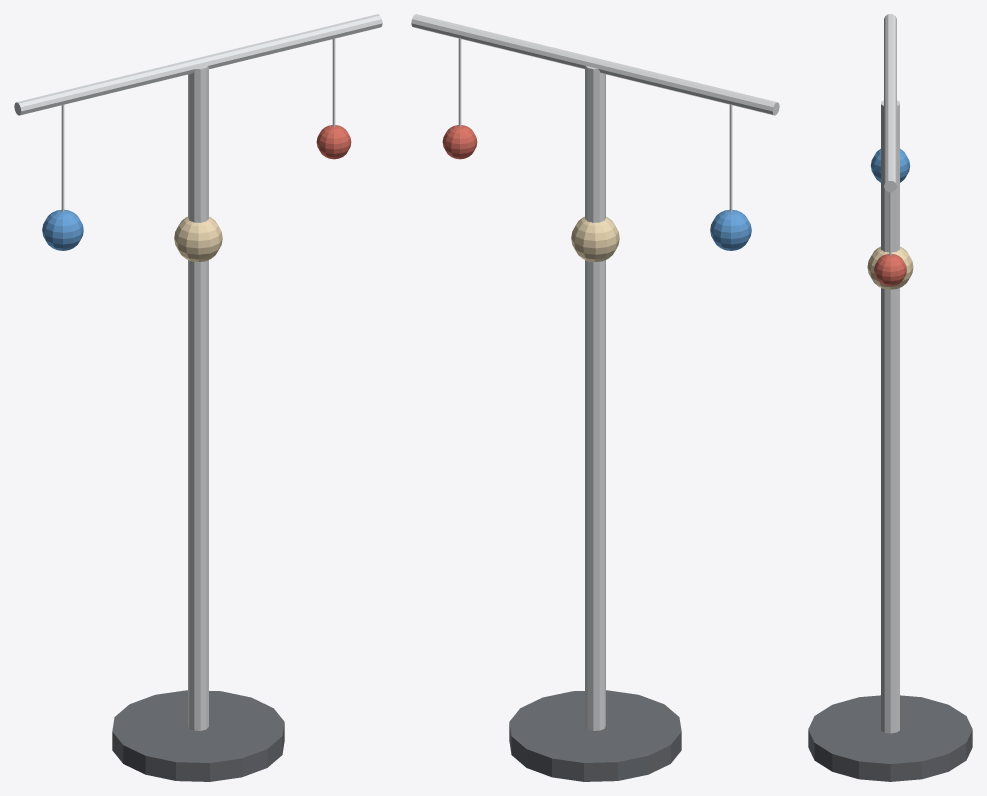
File: solar-system-and-astronauts-planet-mobile-stand-2ee08c4f__39263.glb
The picture shows the model from 3 angles, left to right: view 1: azimuth 30°, elevation 25°; view 2: azimuth 150°, elevation 25°; view 3: azimuth 270°, elevation 25°; orthographic projection. The views are drawn at different scales.
Visible parts, largest first — view 1: planet-mobile-stand; view 2: planet-mobile-stand; view 3: planet-mobile-stand.
Part boxes in pixels (x1,y1,x2,y2): planet-mobile-stand: (14,14,382,781); planet-mobile-stand: (411,14,779,781); planet-mobile-stand: (808,14,972,781).
Bounding box in the file's own units: 1.2 × 2.18 × 0.5.
